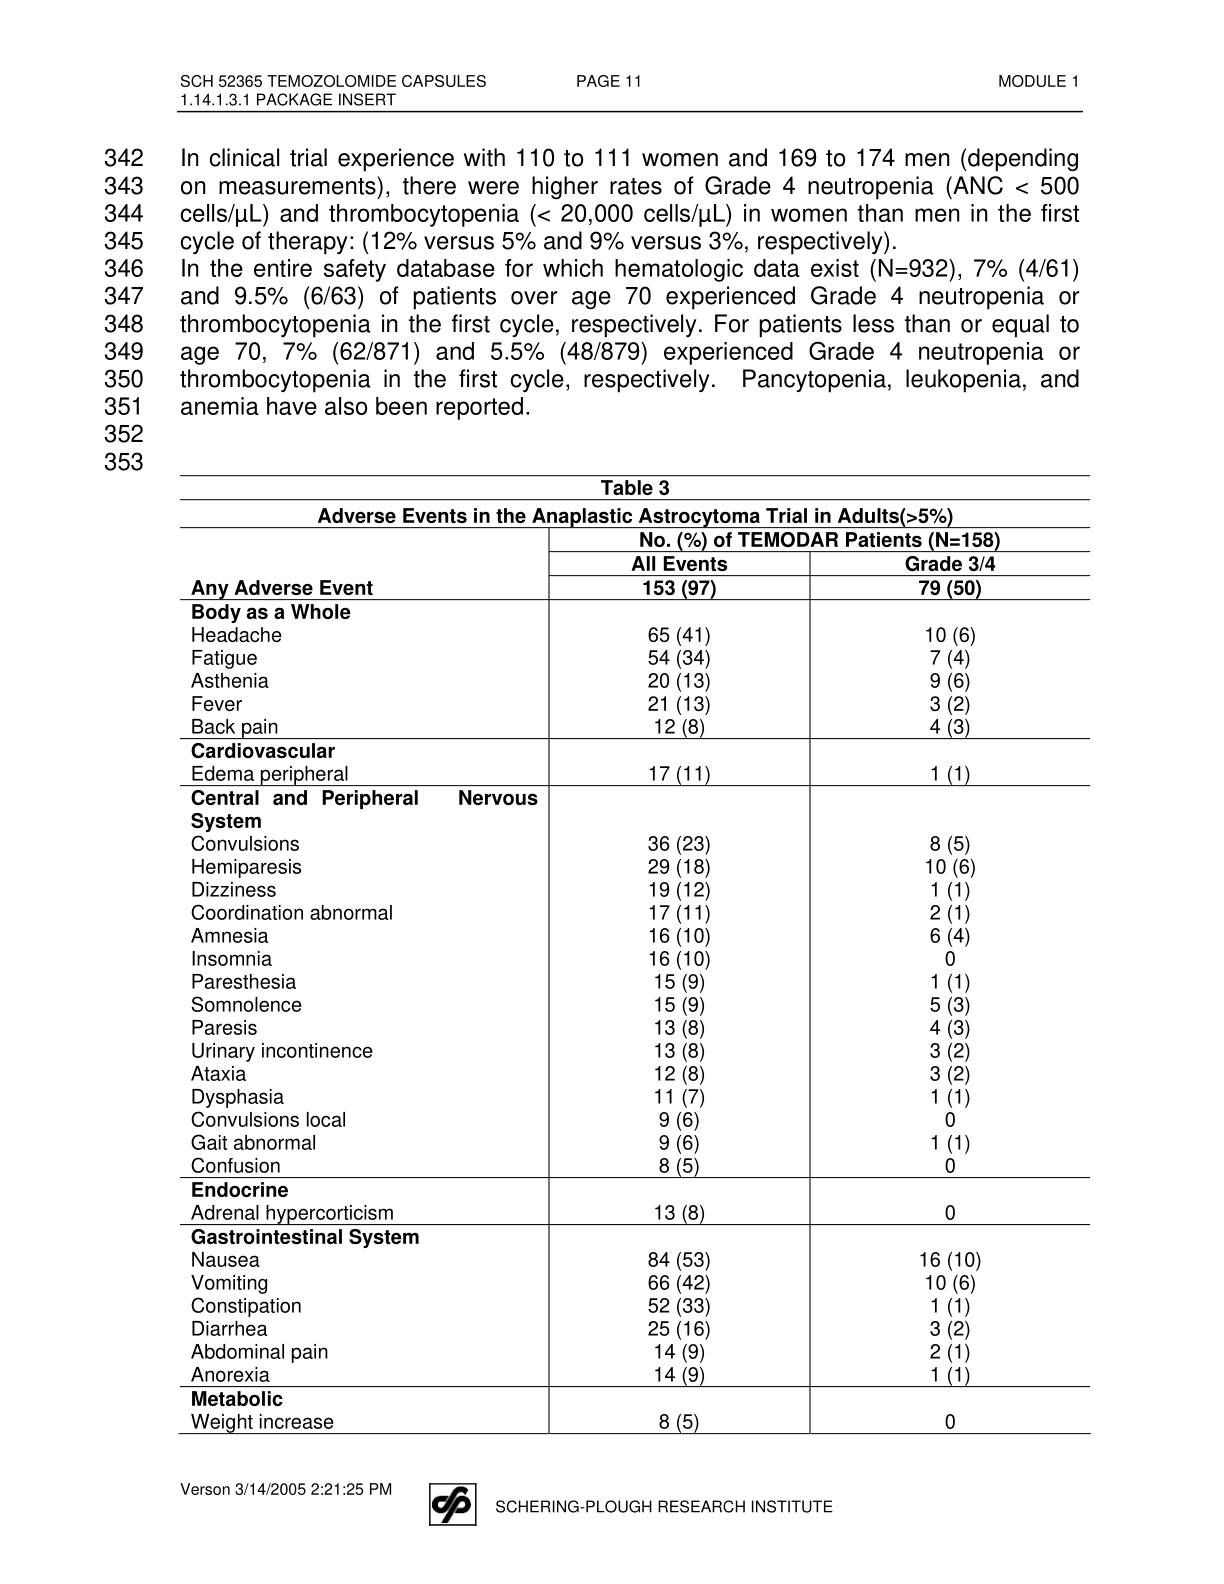partial_lined_merged_cells: (176, 471, 1092, 1437)
